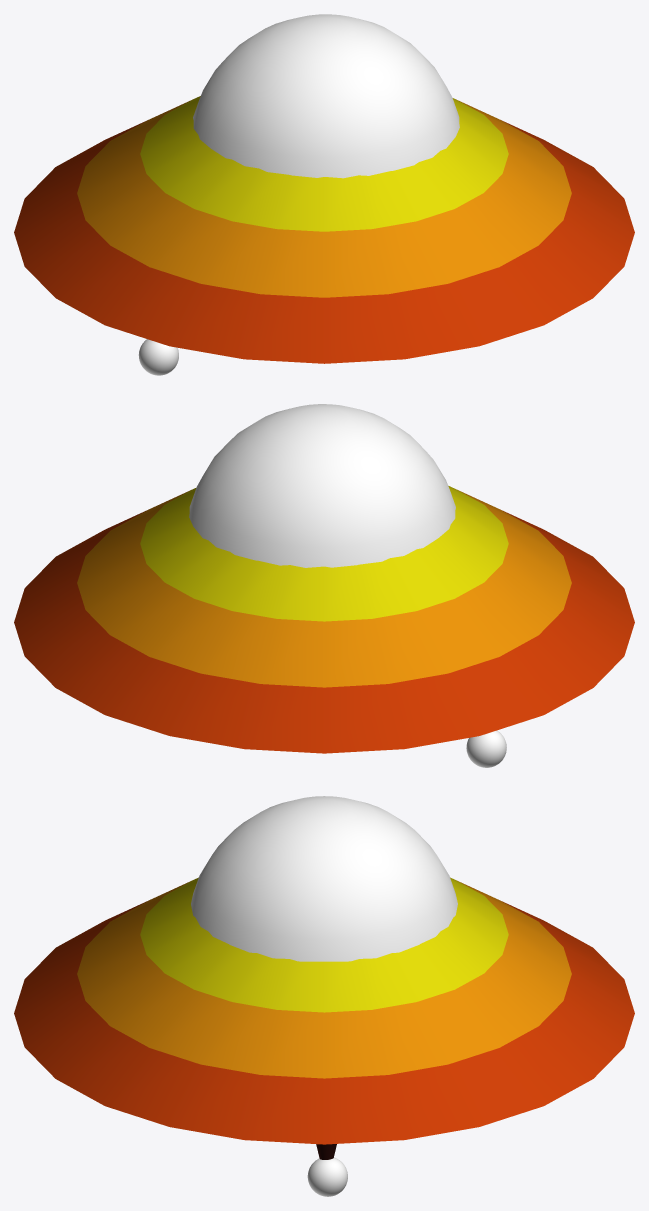
3 views of the same model, one above another, from view 1: azimuth 30°, elevation 25°; view 2: azimuth 150°, elevation 25°; view 3: azimuth 270°, elevation 25° (orthographic).
Visible parts, largest first — view 1: Sphere001; view 2: Sphere001; view 3: Sphere001.
Part boxes in pixels (x1,y1,x2,y2): Sphere001: [14, 14, 634, 375]; Sphere001: [14, 404, 634, 767]; Sphere001: [14, 796, 634, 1196].
Bounding box in the file's own units: 98.26 × 53.71 × 98.26.
